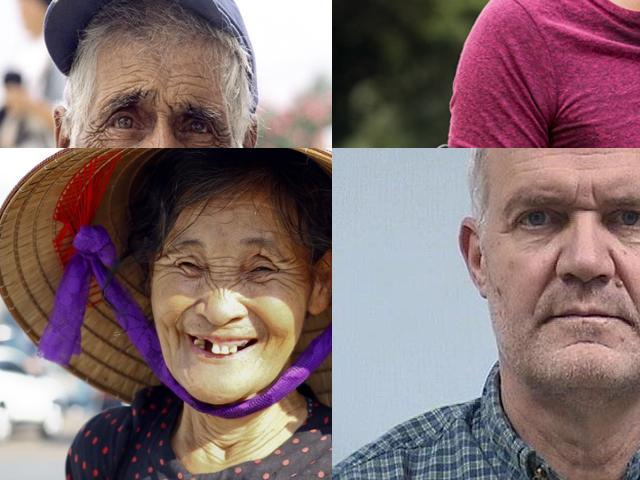bunny_line: (204, 274, 224, 296)
chin: (564, 334, 610, 356)
crows_feet: (80, 120, 108, 146), (278, 260, 298, 290), (496, 220, 520, 240), (212, 124, 229, 148), (158, 252, 175, 276)
forehead: (167, 69, 211, 94), (510, 150, 546, 176), (565, 148, 603, 172), (115, 67, 148, 89), (232, 196, 266, 210)
frown_line: (569, 179, 599, 216), (212, 262, 238, 284), (212, 252, 238, 260)
gummy_smile: (610, 255, 634, 303), (175, 294, 201, 326), (538, 262, 558, 300), (249, 305, 273, 336)
masseter: (157, 319, 173, 353)
sad_smile: (173, 330, 183, 356)
